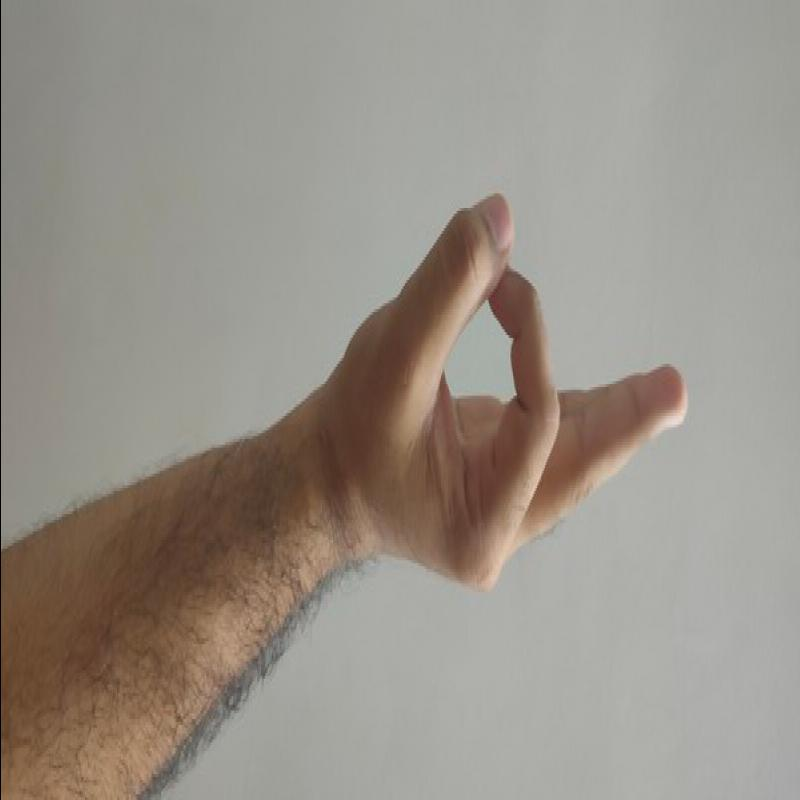Mudraakhyam: (307, 188, 707, 607)
